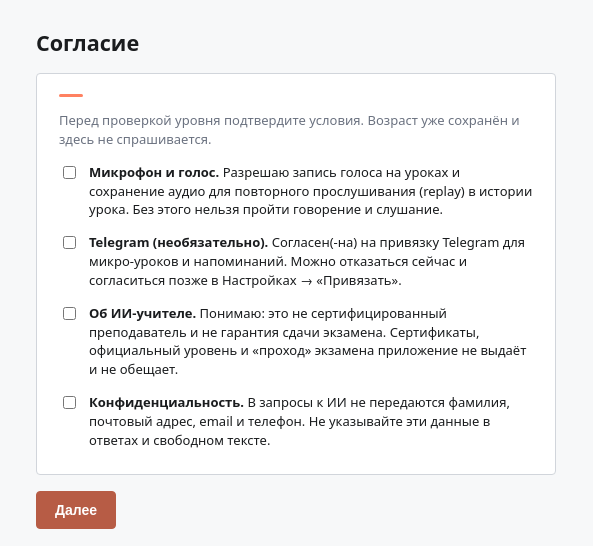
Scenario: OnboardingConsent › accepts required (Telegram optional) and hands off to placement stub
The image size is (593, 546).
Click the 1st checkbox at (70, 172), box [63,166,76,179]
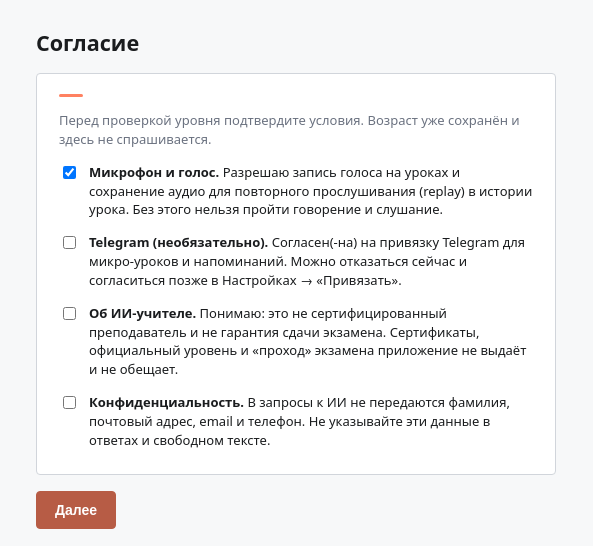
Click the 3rd checkbox at (70, 313), box [63,307,76,320]
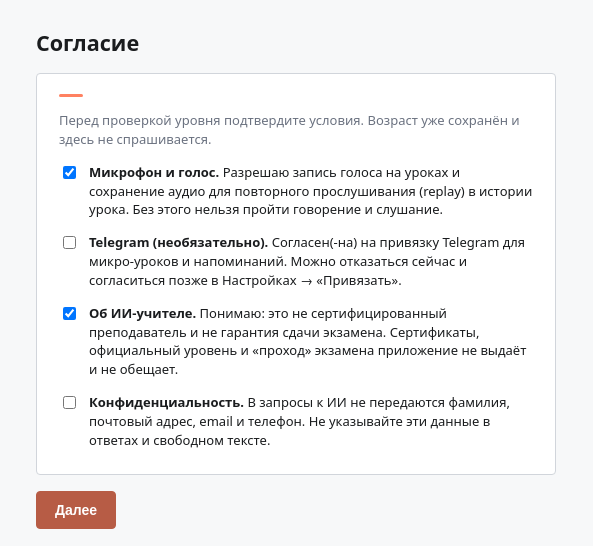
Click the 4th checkbox at (70, 403), box [63,396,76,409]
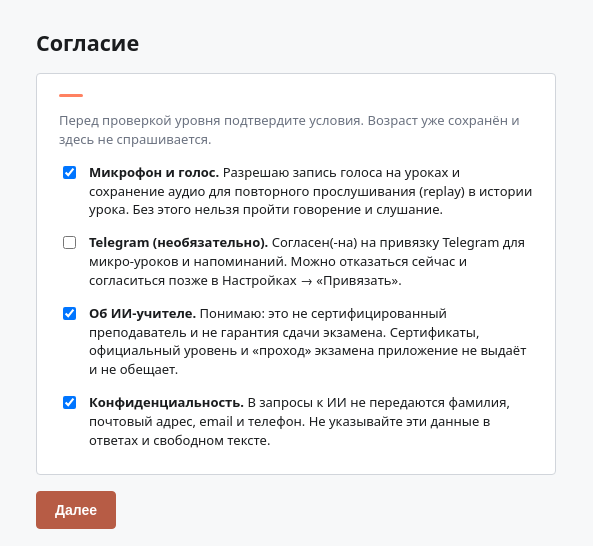
Click the button with test id "next-button" at (76, 510), box [36,491,116,529]
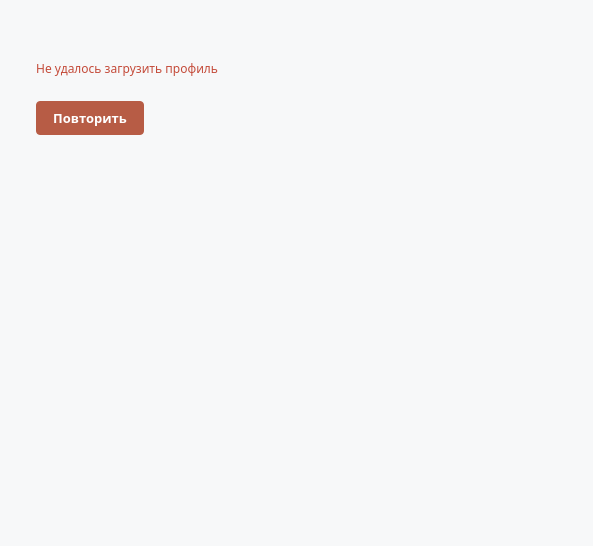
Now the element with test id "onboarding-placement" is shown, box [16,0,576,203]
